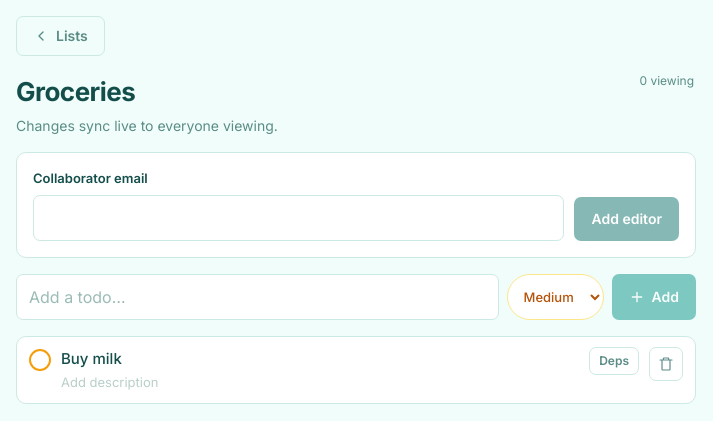
Test: ListDetail › disables the submit button while adding an editor
Expected: the field showing "Buy milk" is shown, [61,346,579,371]
Type "bob@example.com" into the field labelled "Collaborator email".
click(299, 218); type("bob@example.com")  # box [33,194,564,240]
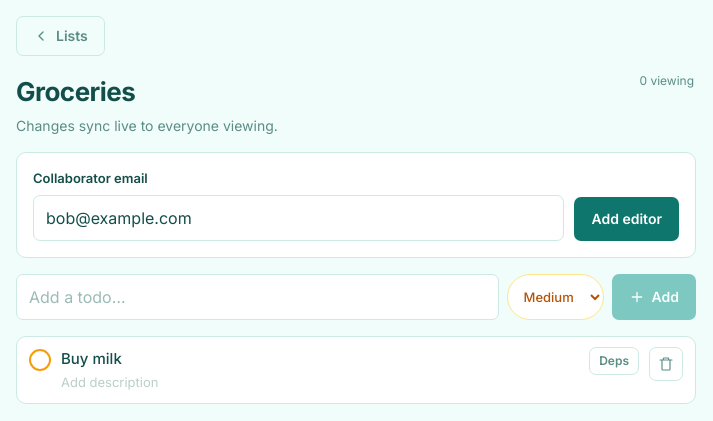
Click the button "Add editor".
click(627, 218)  # box [574,196,679,240]
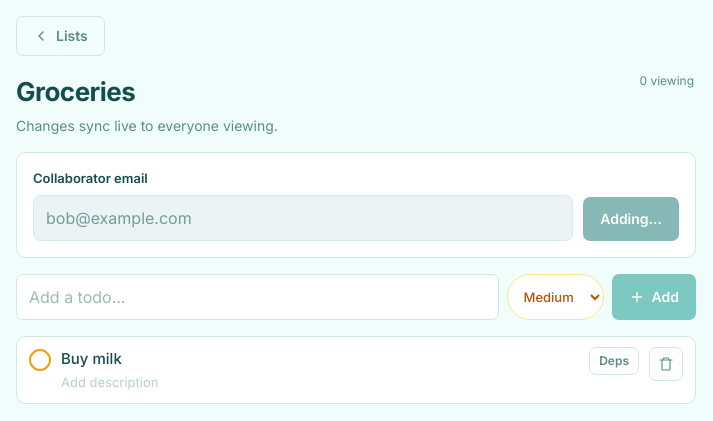
Result: the button "Adding…" is disabled at [583,196,679,240]
